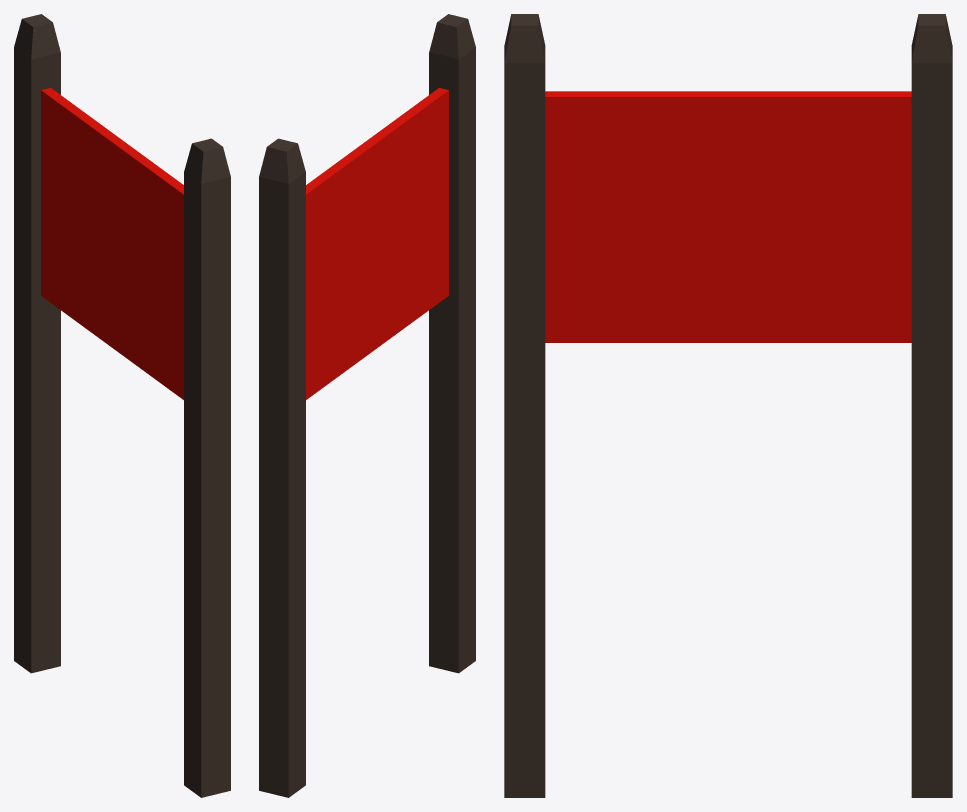
The model's file is flag.glb.
3 views of the same model, side by side, from view 1: azimuth 30°, elevation 25°; view 2: azimuth 150°, elevation 25°; view 3: azimuth 270°, elevation 25° (orthographic). The views are drawn at different scales.
Visible parts, largest first — view 1: Cube.001, Cube.002; view 2: Cube.001, Cube.002; view 3: Cube.002, Cube.001.
Part boxes in pixels (<box>): Cube.001: <box>14,14,230,797</box>; Cube.002: <box>41,88,183,399</box>; Cube.001: <box>259,14,475,797</box>; Cube.002: <box>306,88,448,399</box>; Cube.002: <box>545,91,911,342</box>; Cube.001: <box>504,14,952,797</box>.
Bounding box in the file's own units: 0.3021 × 6.26 × 3.3.
